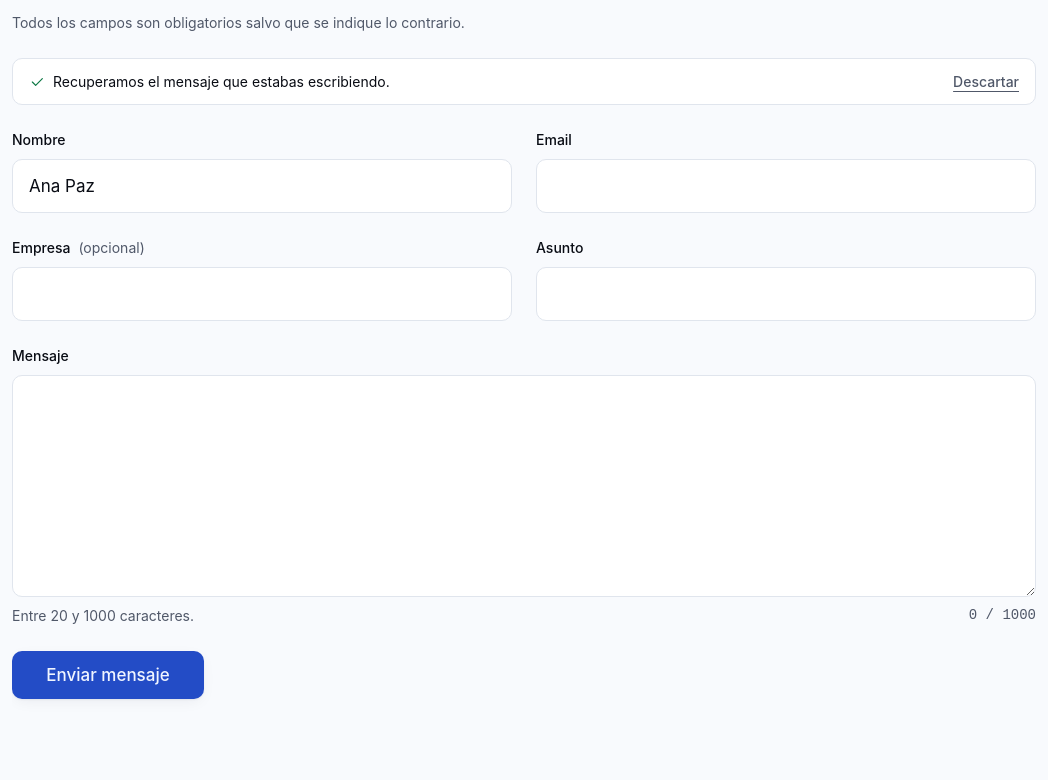
Test: ContactForm draft › discards the draft on request
Step 1. Click the button "Descartar" → (986, 82), box x1=953 y1=71 x2=1019 y2=92
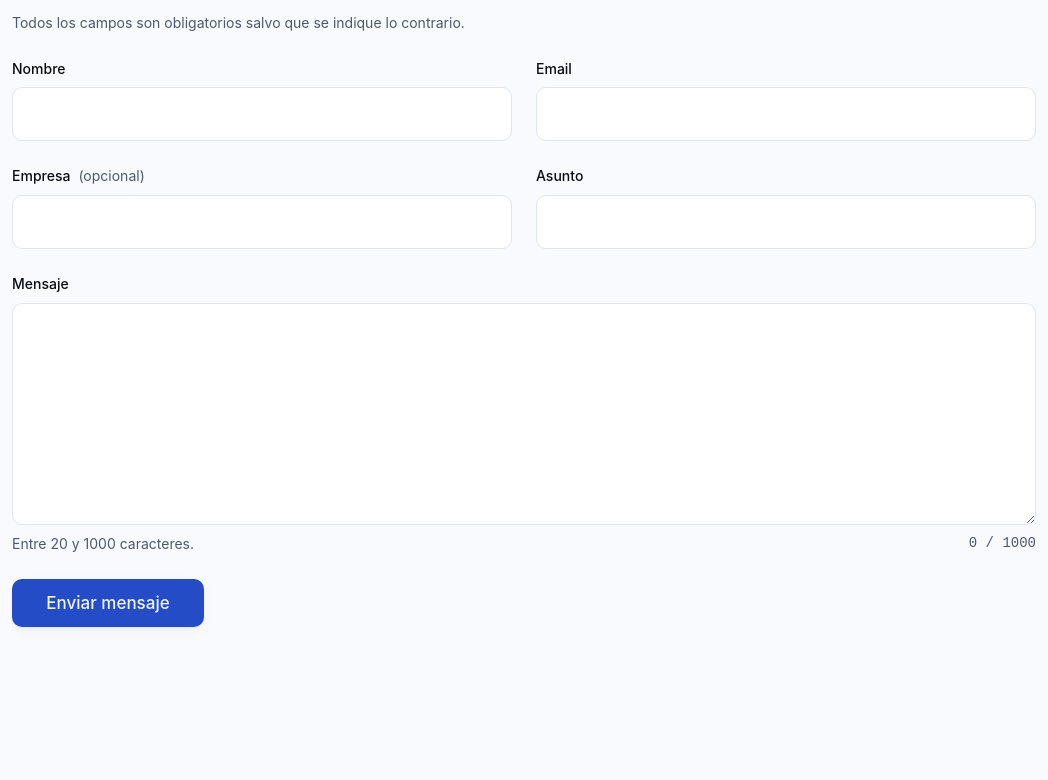
expect the field labelled "Nombre" is empty: met, box x1=12 y1=87 x2=512 y2=141
expect the text "Recuperamos" is gone: met
